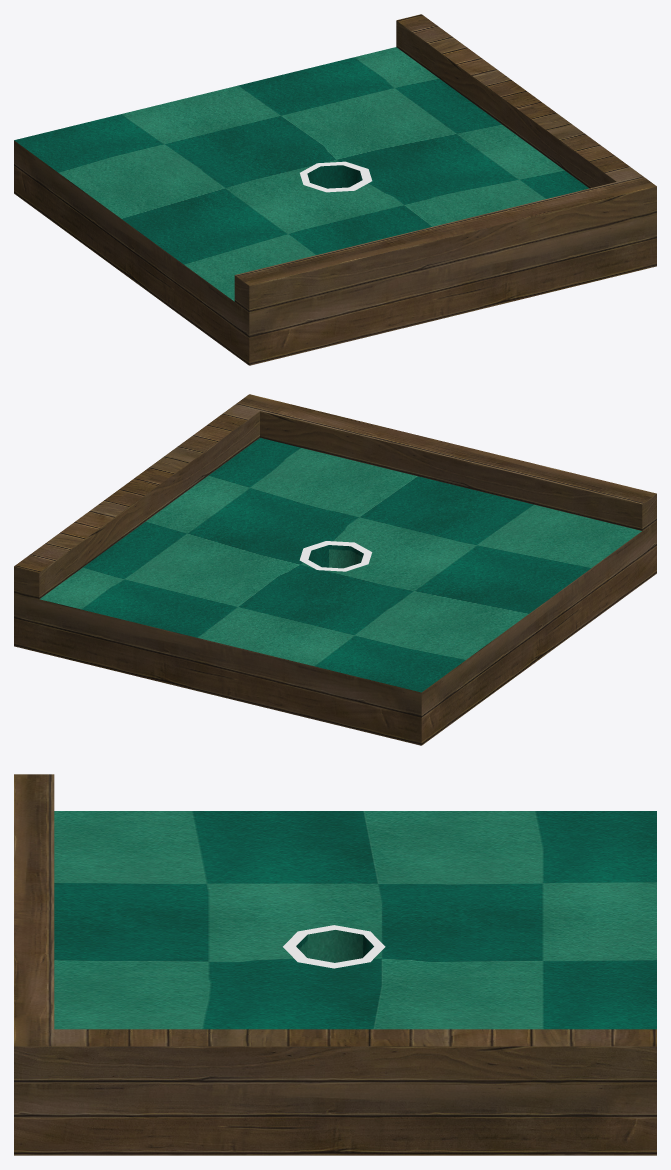
The model's file is End3.gltf.
The picture shows the model from 3 angles, top to bottom: view 1: azimuth 30°, elevation 25°; view 2: azimuth 150°, elevation 25°; view 3: azimuth 270°, elevation 25°; orthographic projection. The views are drawn at different scales.
Visible parts, largest first — view 1: End3_grass_glb, End3_wood_0110_glb; view 2: End3_grass_glb, End3_wood_0110_glb; view 3: End3_grass_glb, End3_wood_0110_glb.
Part boxes in pixels (x1,y1,x2,y2): End3_grass_glb: (14, 47, 588, 301); End3_wood_0110_glb: (14, 14, 656, 365); End3_grass_glb: (40, 438, 641, 692); End3_wood_0110_glb: (14, 394, 656, 745); End3_grass_glb: (54, 811, 656, 1029); End3_wood_0110_glb: (14, 774, 656, 1155).
Size of what is drawn, in the model's own units: 4 by 0.75 by 4.
Materials: 3 (2 with a texture image).
